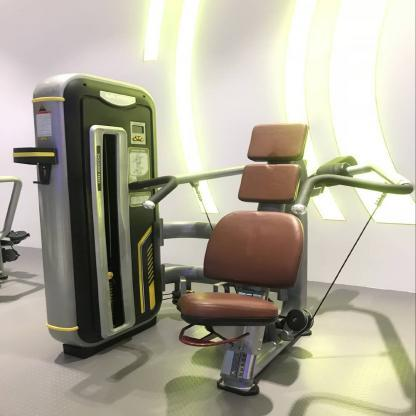shoulder press machine: (35, 75, 412, 403)
